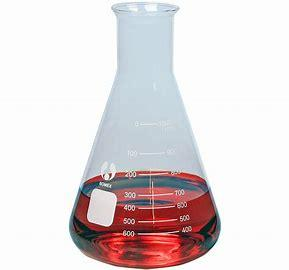Titrarion: (54, 2, 223, 266)
